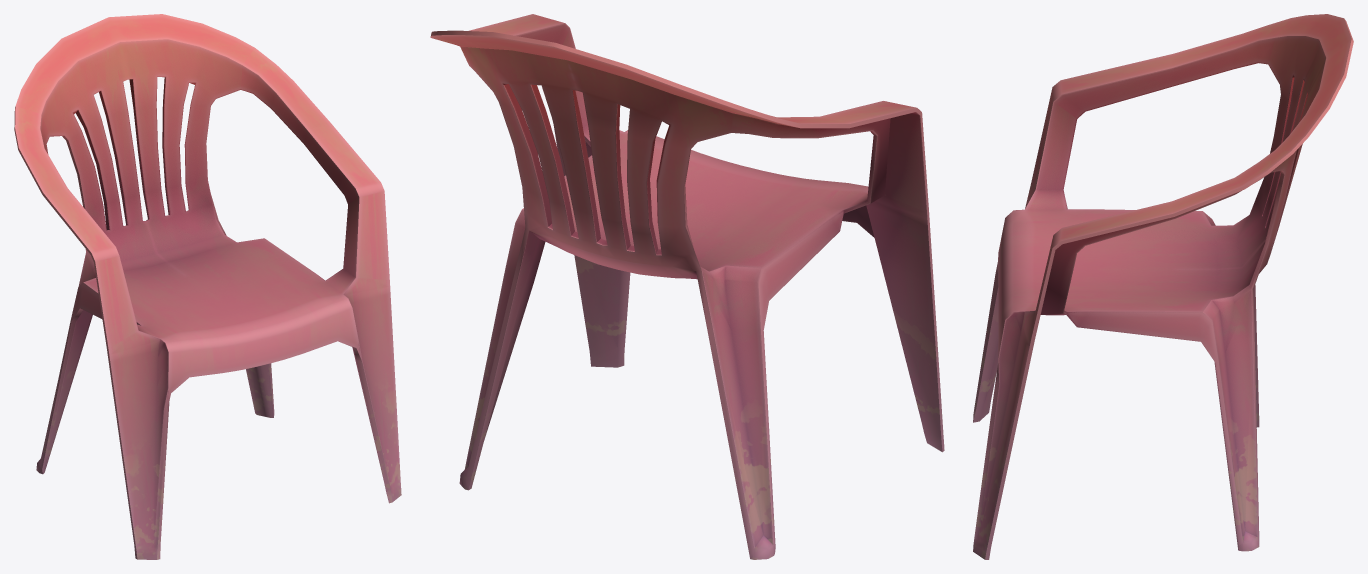
File: PlasticChair_v1.fbx
The picture shows the model from 3 angles, left to right: view 1: azimuth 30°, elevation 25°; view 2: azimuth 150°, elevation 25°; view 3: azimuth 270°, elevation 25°; orthographic projection. The views are drawn at different scales.
Parts seen in each view (by area): view 1: PlasticChair_v1; view 2: PlasticChair_v1; view 3: PlasticChair_v1.
Boxes of the visible parts, x1=… form: PlasticChair_v1: x1=14, y1=14, x2=401, y2=559; PlasticChair_v1: x1=430, y1=14, x2=944, y2=559; PlasticChair_v1: x1=973, y1=14, x2=1353, y2=559.
Size of the model in its own units: 77 by 99.76 by 76.91.
